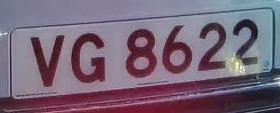2: (194, 16, 232, 77), (227, 13, 264, 72)
6: (158, 18, 197, 82)
8: (121, 20, 161, 86)
G: (67, 28, 111, 89)
V: (27, 30, 69, 93)
